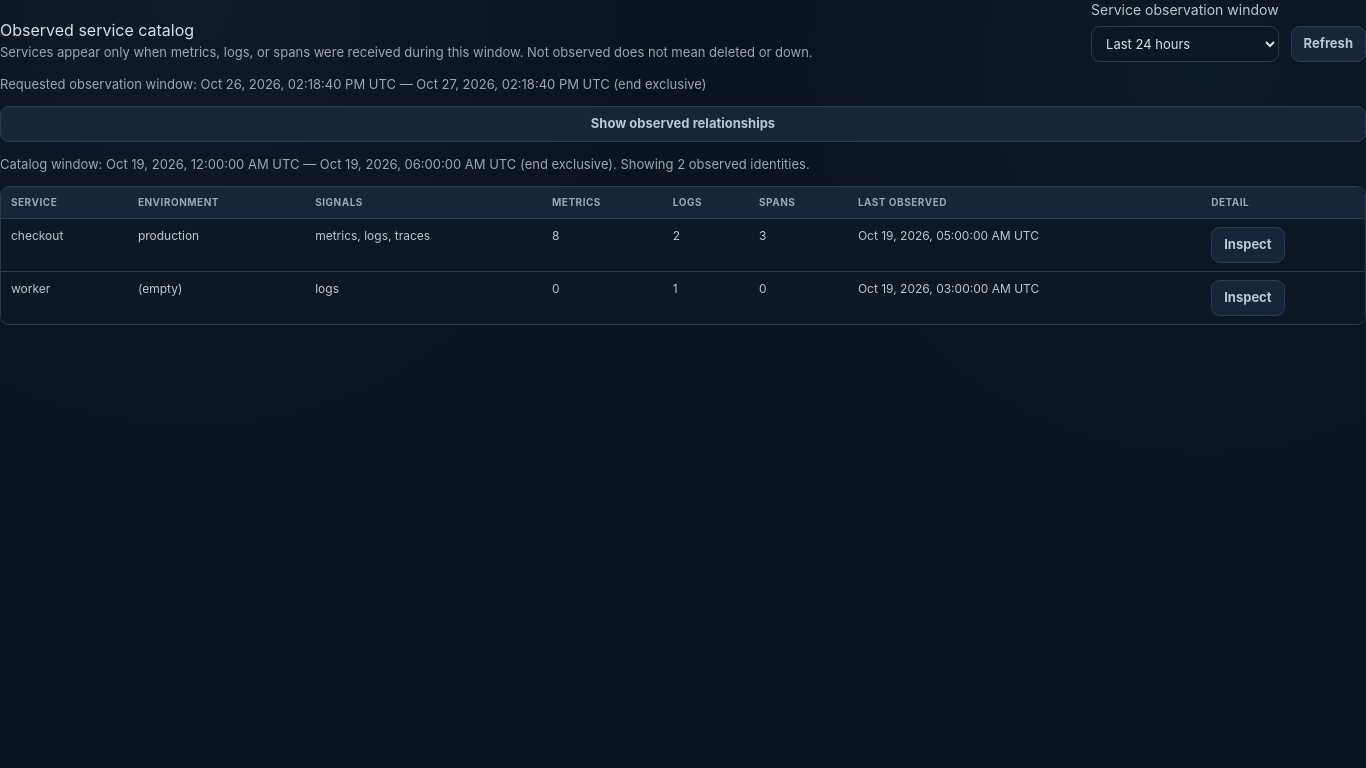
it: ServicesWorkspace › shows bounded-detail failure separately from healthy catalog
The image size is (1366, 768).
Click the button with aria-label "Inspect checkout, environment production": {"x": 1248, "y": 245} [1211,227,1285,263]
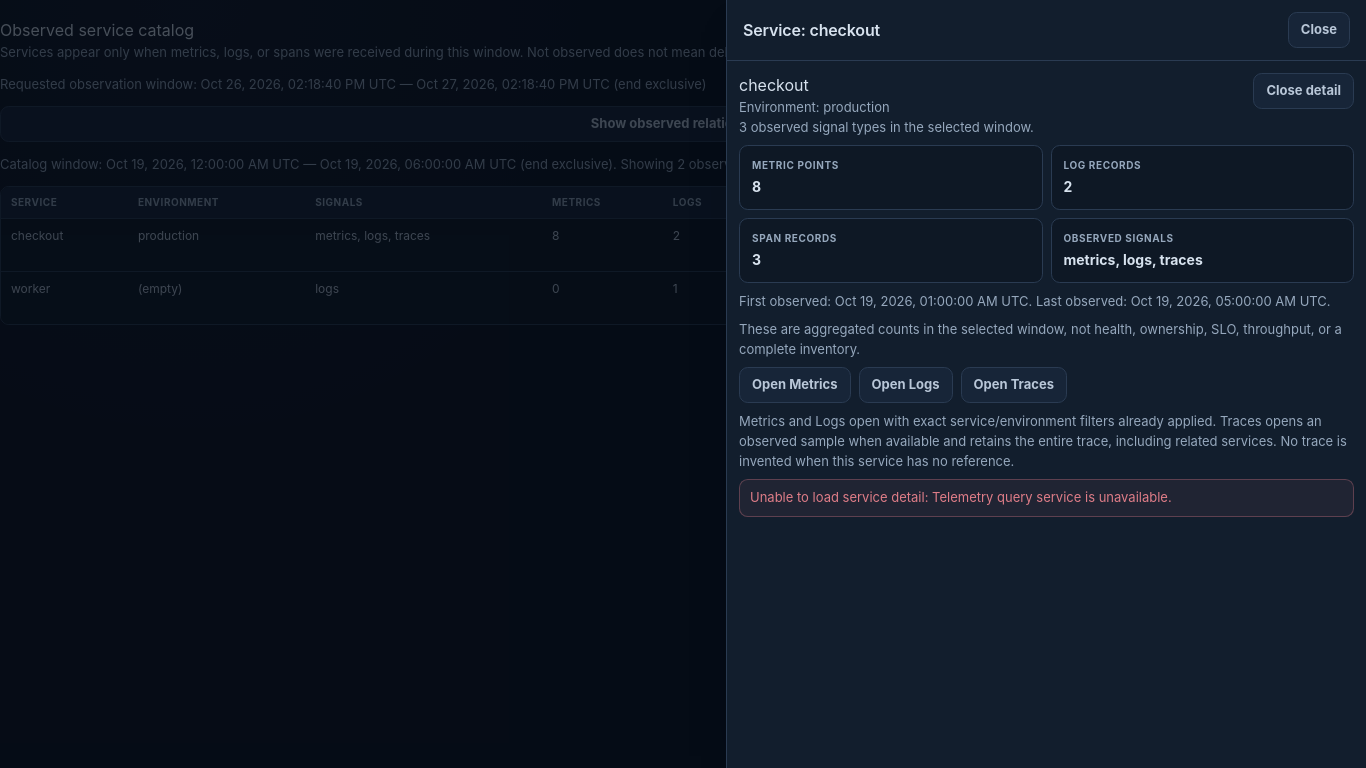
Expected: the text "checkout" is shown, [1,218,128,272]
Result: the message shows "unavailable" at [932,489,1172,505]
